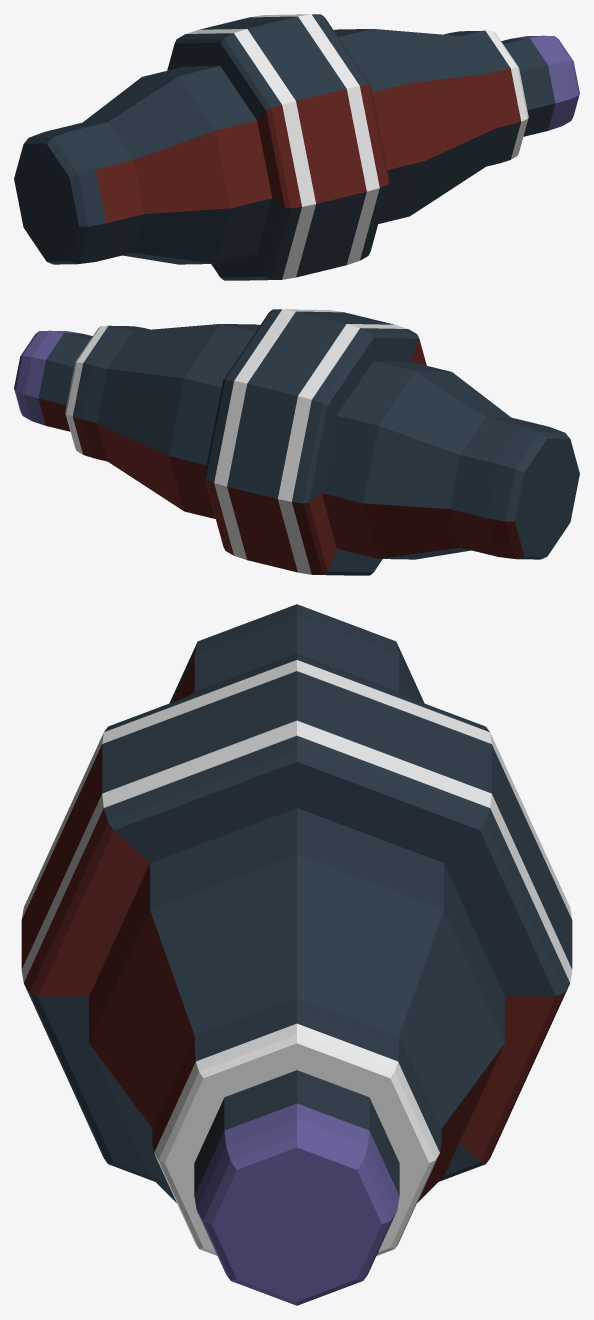
File: BombUpper.fbx
The picture shows the model from 3 angles, top to bottom: view 1: azimuth 30°, elevation 25°; view 2: azimuth 150°, elevation 25°; view 3: azimuth 270°, elevation 25°; orthographic projection. The views are drawn at different scales.
Visible parts, largest first — view 1: Cylinder.002; view 2: Cylinder.002; view 3: Cylinder.002.
Part boxes in pixels (left/top/right/bottom): Cylinder.002: left=14, top=14, right=579, bottom=280; Cylinder.002: left=14, top=309, right=579, bottom=575; Cylinder.002: left=21, top=604, right=572, bottom=1305.
Size of the model in its own units: 109 by 50.7 by 50.7.
